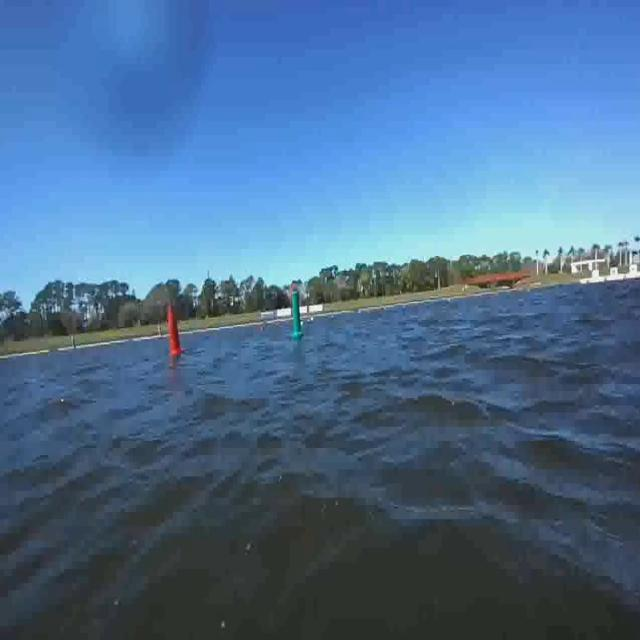green-column-buoy: (289, 290, 304, 338)
red-column-buoy: (168, 305, 184, 357)
